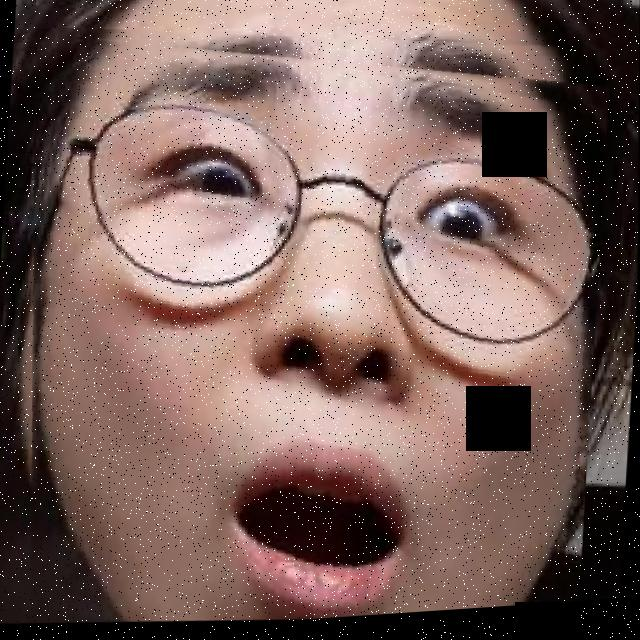fear: (0, 5, 613, 640)
